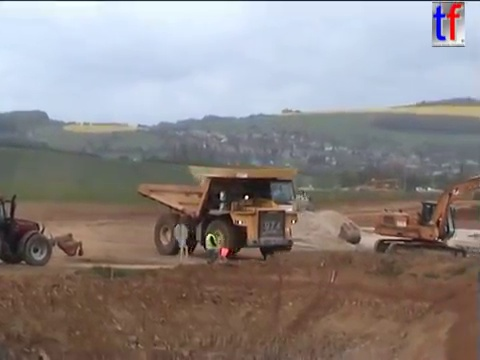excavator: (371, 173, 480, 266)
truck: (133, 165, 312, 259), (280, 189, 315, 218)
wheel loader: (1, 193, 85, 267)
worker: (203, 226, 219, 267)
